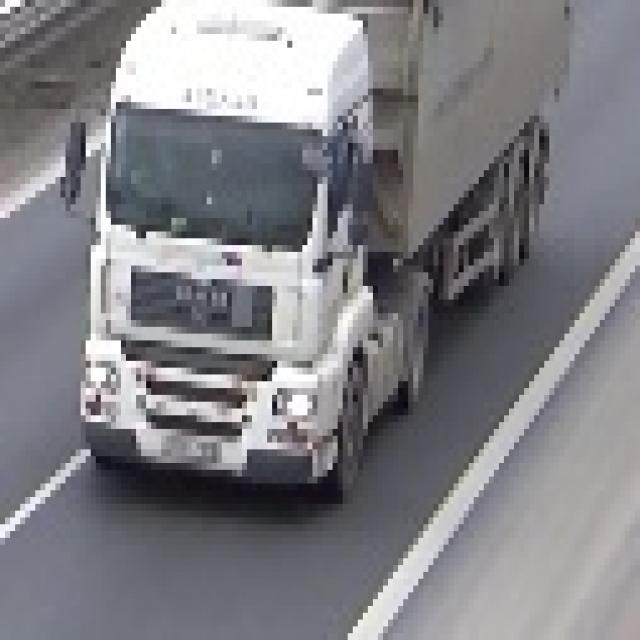TRUCK: (78, 0, 577, 524)
